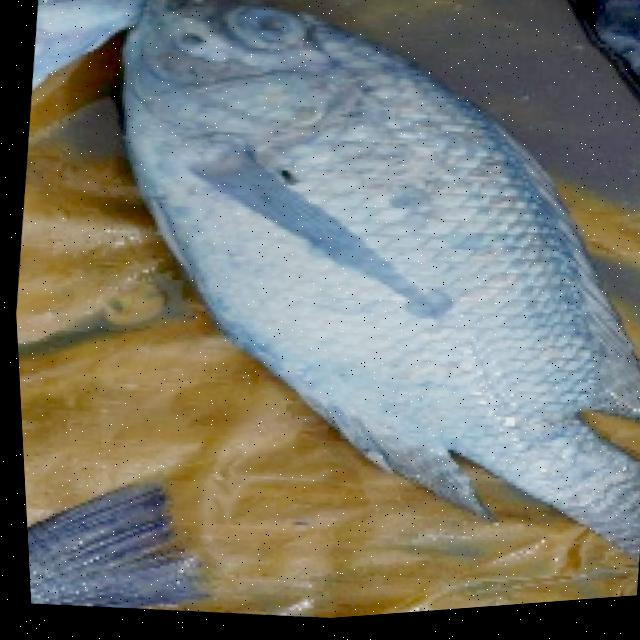Non-Fresh: (58, 0, 625, 500)
